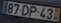3: (45, 8, 53, 20)
4: (38, 7, 45, 19)
7: (13, 2, 20, 15)
8: (7, 2, 14, 13)
D: (20, 4, 29, 16)
P: (27, 5, 37, 17)
